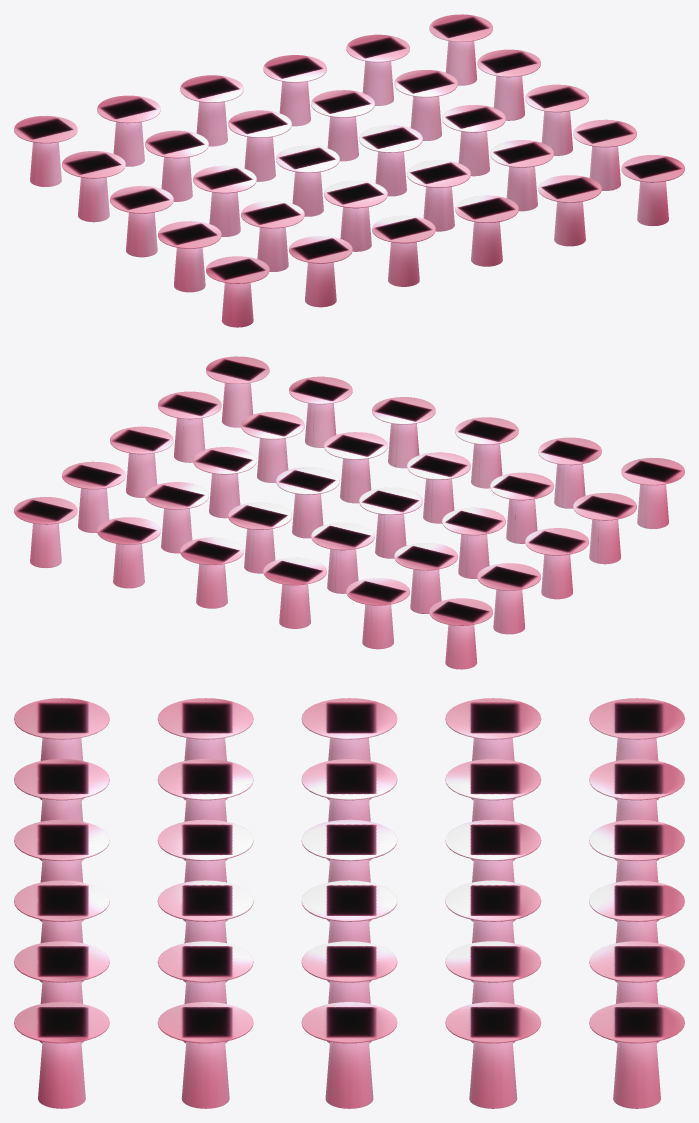
The model's file is tables.glb.
3 views of the same model, one above another, from view 1: azimuth 30°, elevation 25°; view 2: azimuth 150°, elevation 25°; view 3: azimuth 270°, elevation 25° (orthographic). The views are drawn at different scales.
Parts seen in each view (by area): view 1: Tables.003; view 2: Tables.003; view 3: Tables.003.
Part boxes in pixels (x1,y1,x2,y2): Tables.003: [14, 14, 684, 327]; Tables.003: [14, 356, 684, 669]; Tables.003: [14, 698, 684, 1108].
Size of the model in its own units: 6.8 by 0.705 by 5.6.
3 materials, 2 textured.
